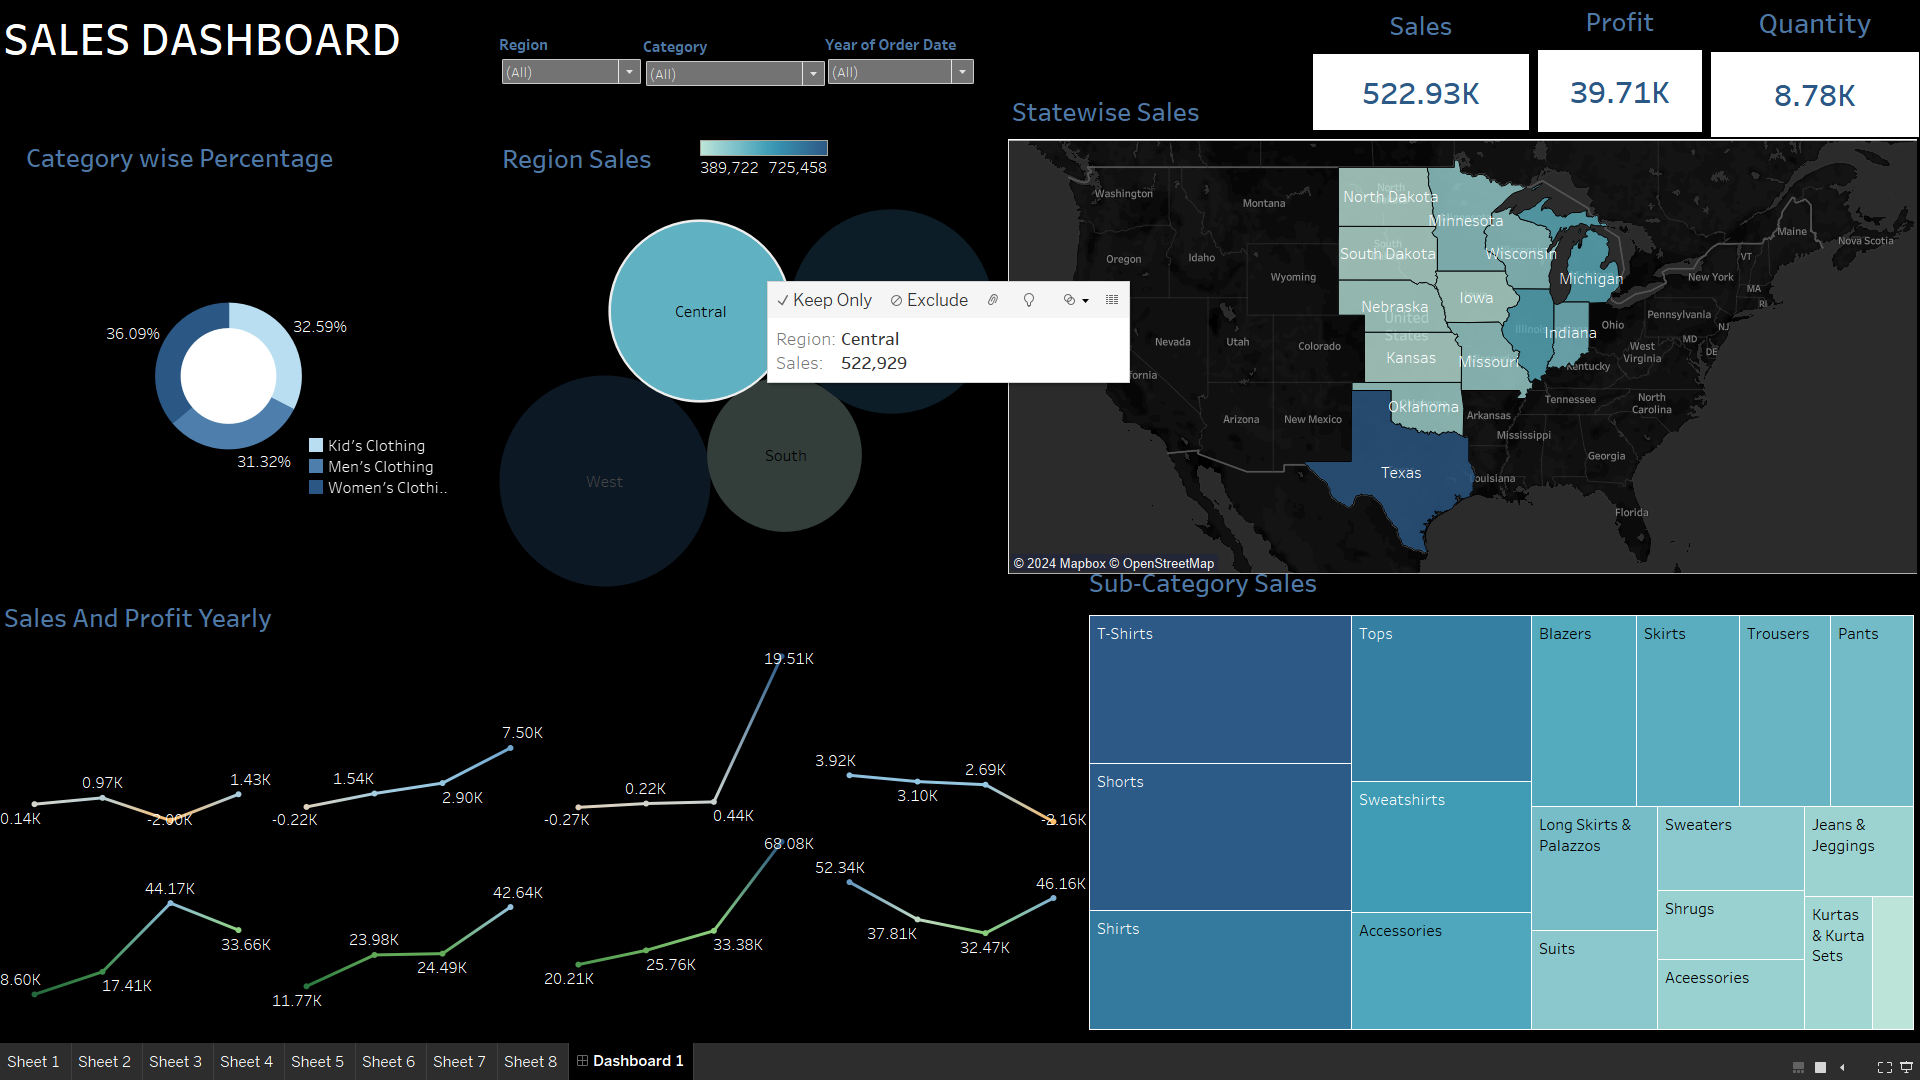

The page's visual inventory and layout, read from the dashboard file:
{"tool":"tableau","page":{"name":"Dashboard 1","canvas":[1000,1000],"units":"permille","ordinal":0},"visuals":[{"type":"blank","box":[0,0,1000,1000]},{"type":"worksheet","title":"Sheet 3","mark":"Automatic","box":[801.2,0,85.3,126.1]},{"type":"worksheet","title":"Sheet 4","mark":"Automatic","box":[891.1,0,108.2,131.6]},{"type":"worksheet","title":"Sheet 2","mark":"Automatic","box":[683.9,3.7,112.7,120.7]},{"type":"text","box":[0,5.9,245,59.9]},{"type":"filter","title":"Sheet 3","param":"[federated.02s150b0oq98tg15a1gx214efzrz].[none:Region:nk]","box":[260.1,32.9,75.4,54.1]},{"type":"filter","title":"Sheet 8","param":"[federated.02s150b0oq98tg15a1gx214efzrz].[yr:Order Date:ok]","box":[429.6,32.9,78.9,50.5]},{"type":"filter","title":"Sheet 2","param":"[federated.02s150b0oq98tg15a1gx214efzrz].[none:Category:nk]","box":[334.9,34.1,96.6,51.7]},{"type":"worksheet","title":"Sheet 6","mark":"Automatic","box":[524.8,85.9,473.7,464.4]},{"type":"legend","title":"Sheet 1","param":"[federated.02s150b0oq98tg15a1gx214efzrz].[sum:Sales:qk]","box":[362.7,109.3,70.6,70.5]},{"type":"worksheet","title":"Sheet 7","mark":"Pie","rows":["Calculation_604326818627776520","Calculation_604326818627797002"],"box":[11.5,130.4,214.8,412.5]},{"type":"worksheet","title":"Sheet 1","mark":"Circle","box":[259.5,131.6,258.3,451.2]},{"type":"legend","title":"Sheet 7","param":"[federated.02s150b0oq98tg15a1gx214efzrz].[none:Category:nk]","box":[159.3,396,77.9,99.9]},{"type":"worksheet","title":"Sheet 5","mark":"Automatic","box":[564.9,538.2,433.3,453.6]},{"type":"worksheet","title":"Sheet 8","mark":"Automatic","rows":["Profit","Sales"],"cols":["Order Date","Order Date"],"box":[0,571.1,566.1,403.1]}]}

Visuals, with their boxes on the dashboard's canvas, which has no fixed pixel size, in thousandths of its width and height (x1, y1, x2, y2). These are canvas units, not pixel positions in the 1920x1080 screenshot, which may show the page scaled, cropped or inside an application window:
blank: detection(0, 0, 1000, 1000)
"Sheet 3" worksheet: detection(801, 0, 886, 126)
"Sheet 4" worksheet: detection(891, 0, 999, 132)
"Sheet 2" worksheet: detection(684, 4, 797, 124)
text: detection(0, 6, 245, 66)
"Sheet 3" filter: detection(260, 33, 336, 87)
"Sheet 8" filter: detection(430, 33, 508, 83)
"Sheet 2" filter: detection(335, 34, 432, 86)
"Sheet 6" worksheet: detection(525, 86, 998, 550)
"Sheet 1" legend: detection(363, 109, 433, 180)
"Sheet 7" worksheet (Pie marks): detection(12, 130, 226, 543)
"Sheet 1" worksheet (Circle marks): detection(260, 132, 518, 583)
"Sheet 7" legend: detection(159, 396, 237, 496)
"Sheet 5" worksheet: detection(565, 538, 998, 992)
"Sheet 8" worksheet: detection(0, 571, 566, 974)
